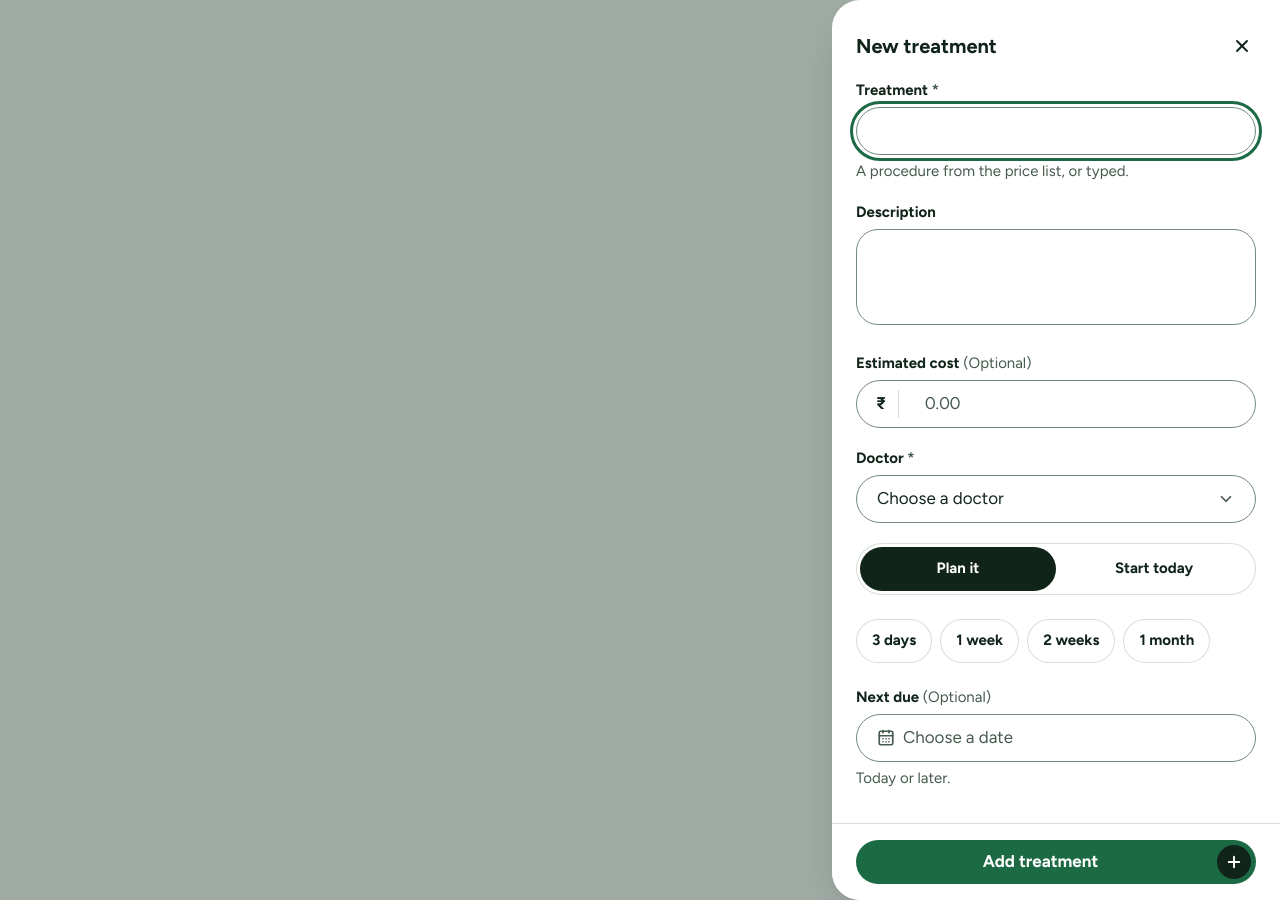
Scenario: NewTreatmentSheet from the profile (D252, D259) › asks for a doctor when none is chosen, with no list of doctors yet
Step 1. Type "Crown" into the dropdown labelled "Treatment *" → [1056, 131], box [856,107,1256,155]
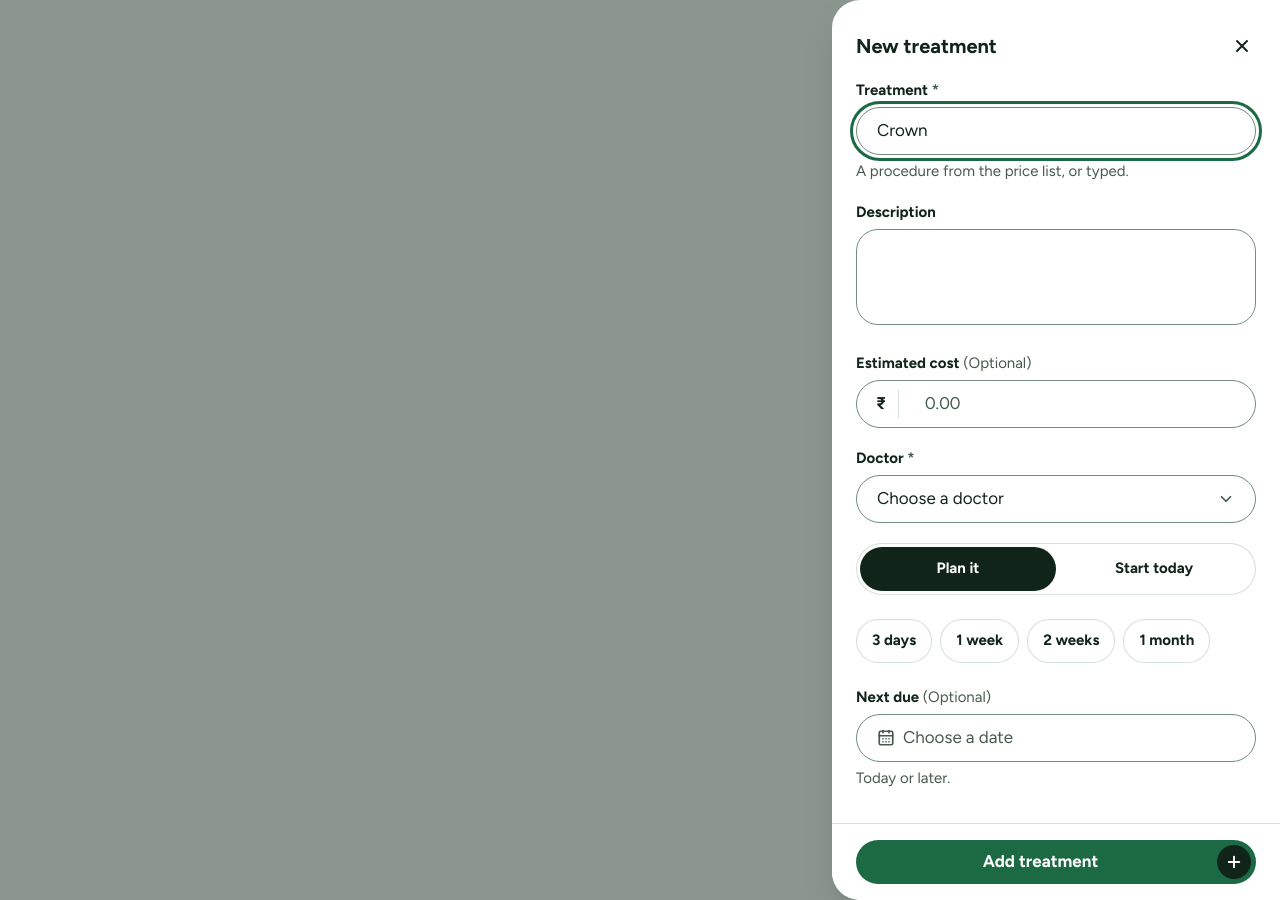
Step 2. Click the button "Add treatment" → [1056, 862], box [856,840,1256,884]
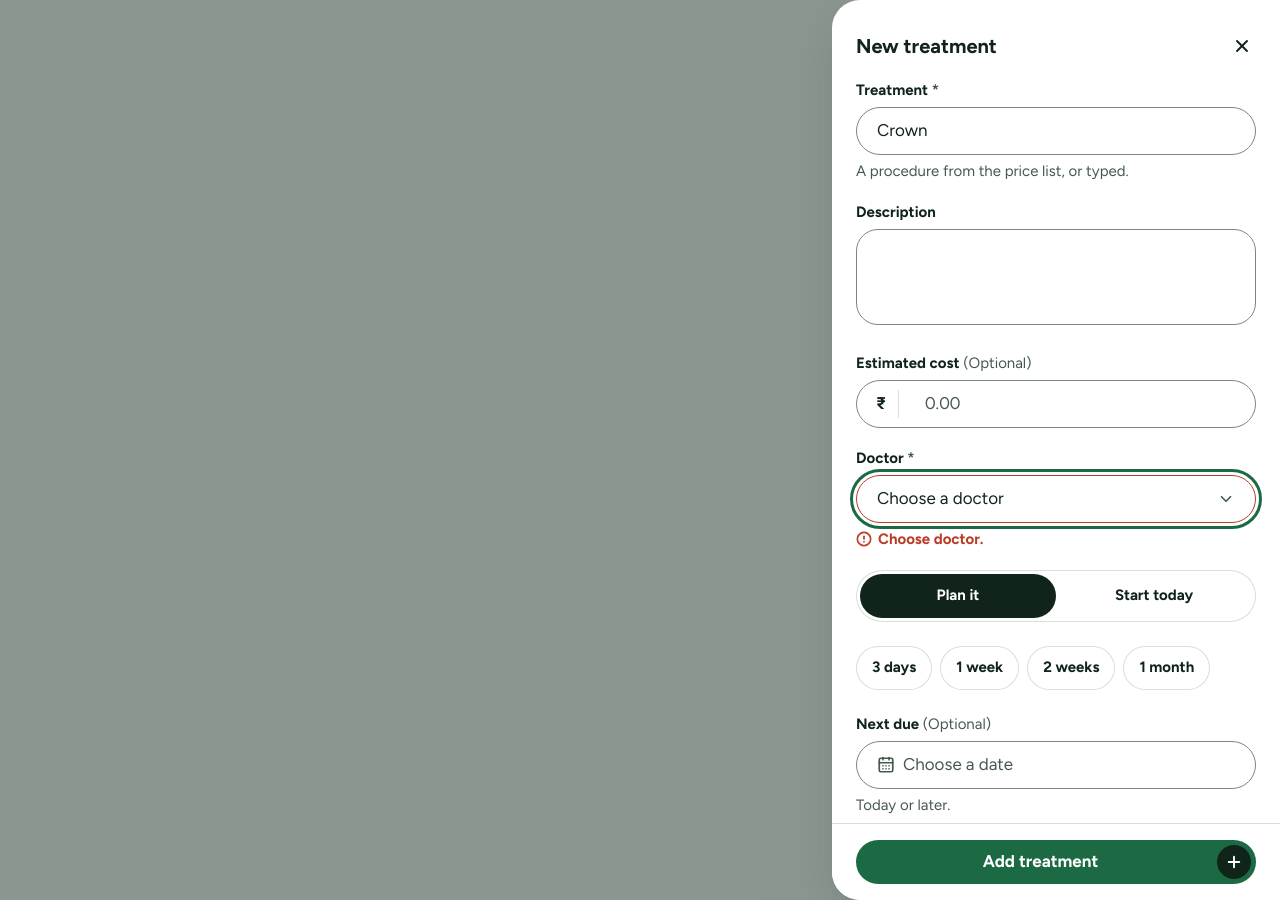
Expected: the text "Choose doctor." is shown, [856,530,984,548]
